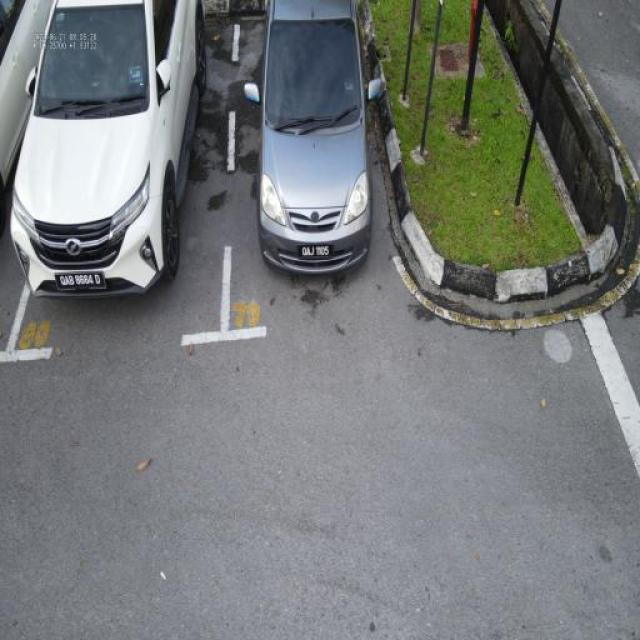Legalparking: (0, 1, 465, 366)
